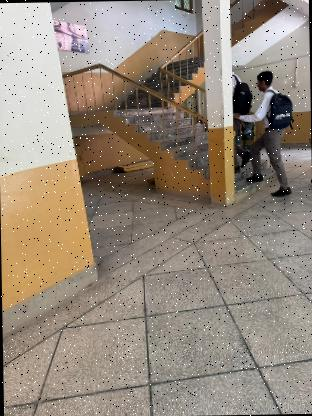person: (241, 67, 296, 195)
stair: (112, 102, 211, 190), (106, 40, 203, 107)
